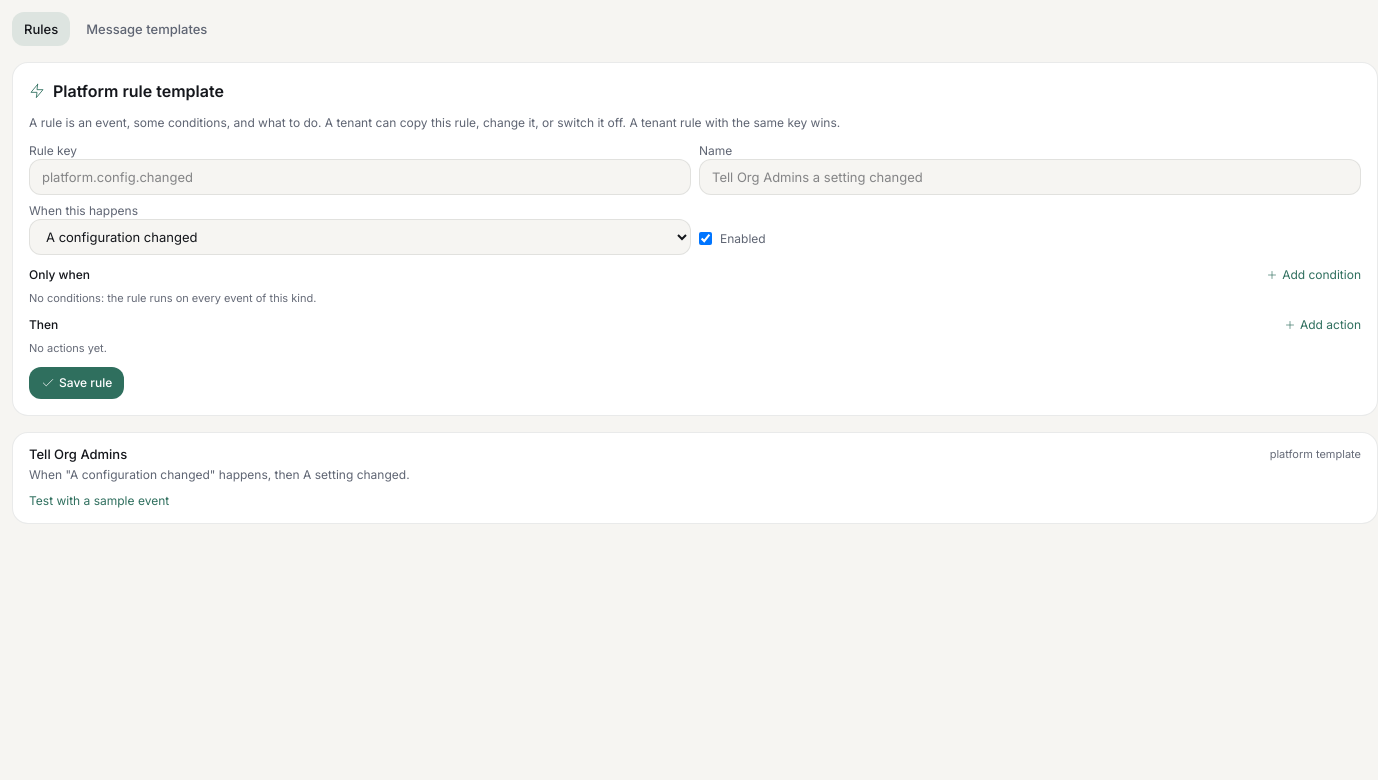
it: SA-07 and SA-08 automation (F7, F1) › Test with a sample event shows the recipients and sends nothing
Click the button with test id "rule-test-platform.config.changed": (99, 501) [29, 493, 169, 509]
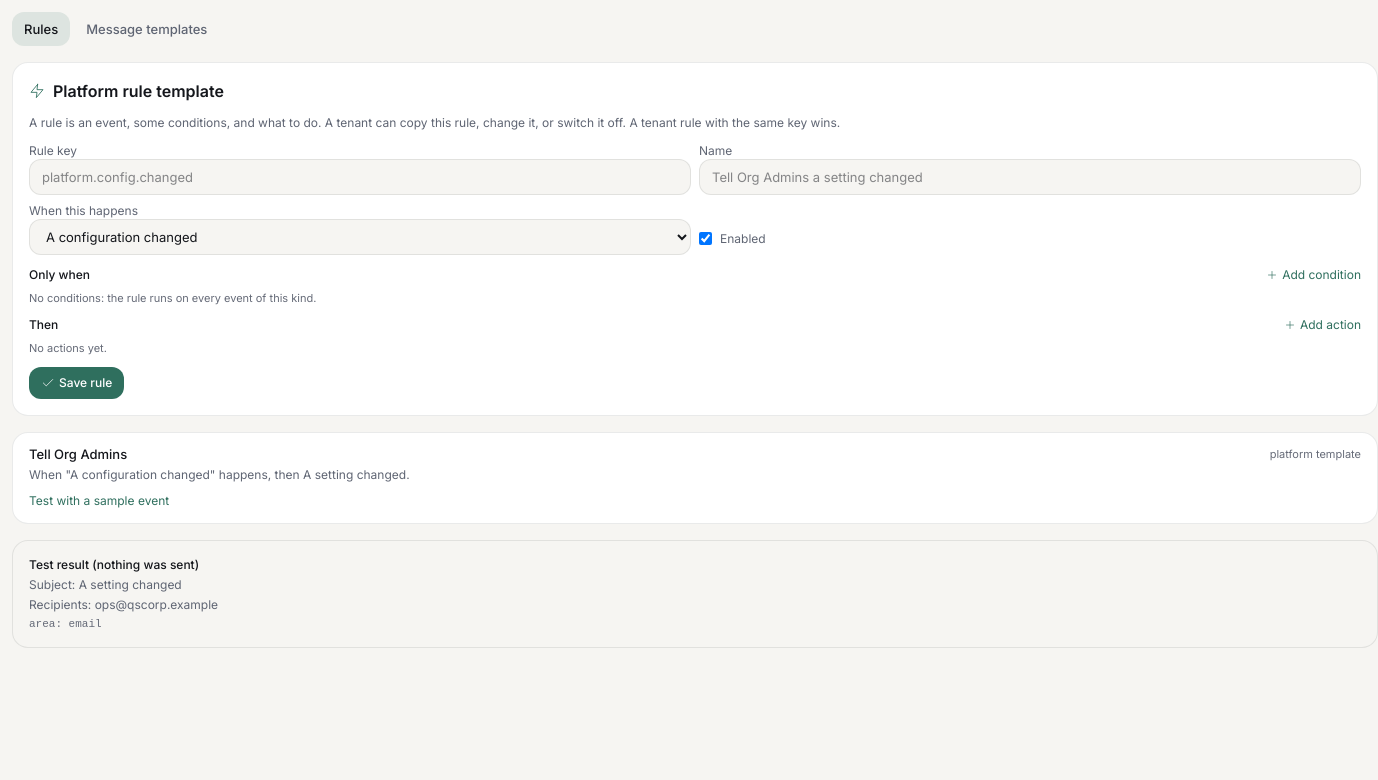
Expected: the element with test id "rule-test-output" is shown, [12, 540, 1377, 648]
Expected: the element with test id "rule-test-output" shows "ops@qscorp.example", [95, 597, 218, 612]
Expected: the element with test id "rule-test-output" shows "nothing was sent", [29, 557, 199, 572]
